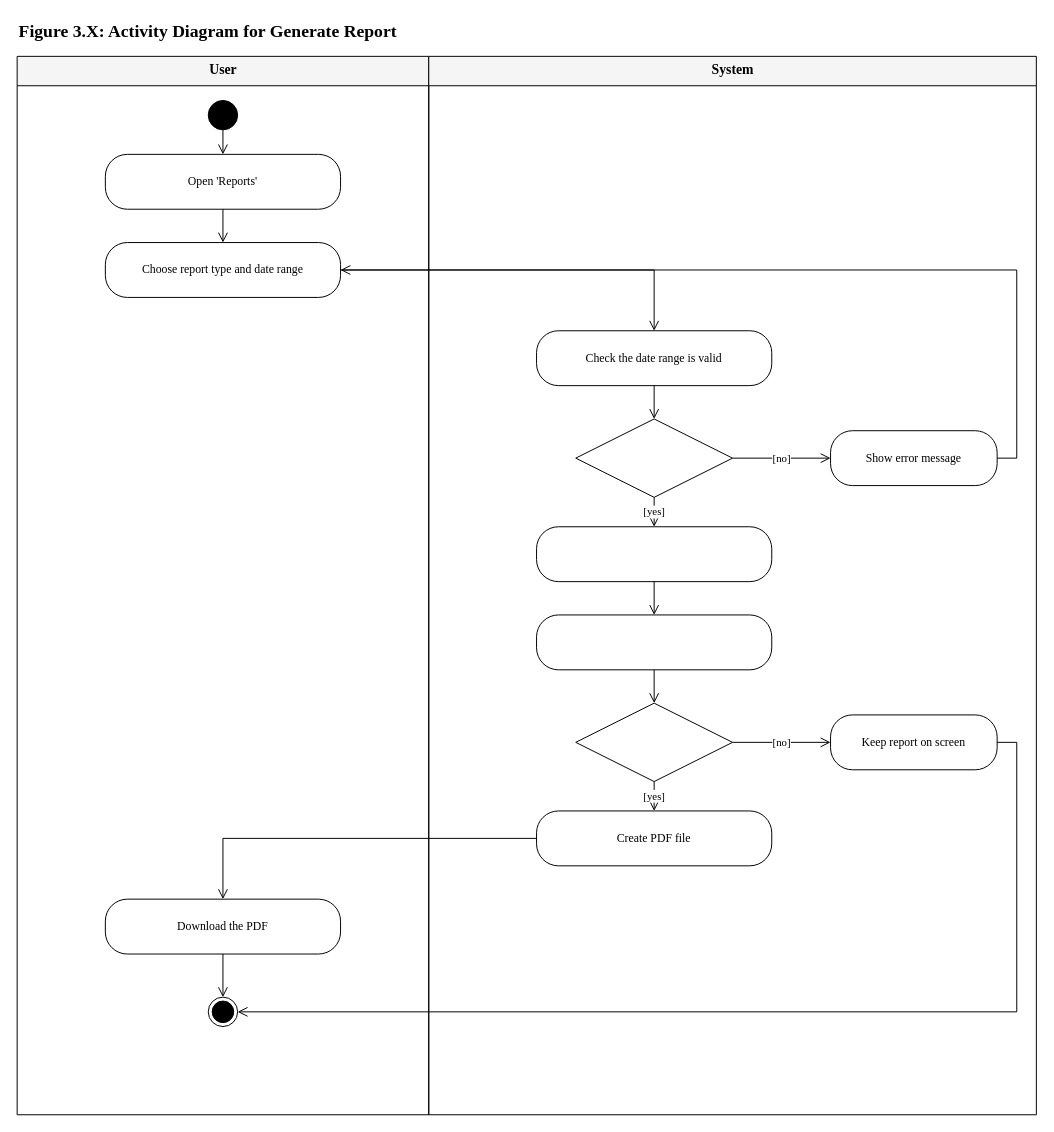
The diagram is 1054 pixels wide and 1132 high, and some of its shapes have lost their labels. Each missing label, with the centre of its shape:
Display the report: the point at 654,642
Export to PDF?: the point at 654,742
Retrieve stock or transaction data: the point at 654,554
Valid?: the point at 654,457
